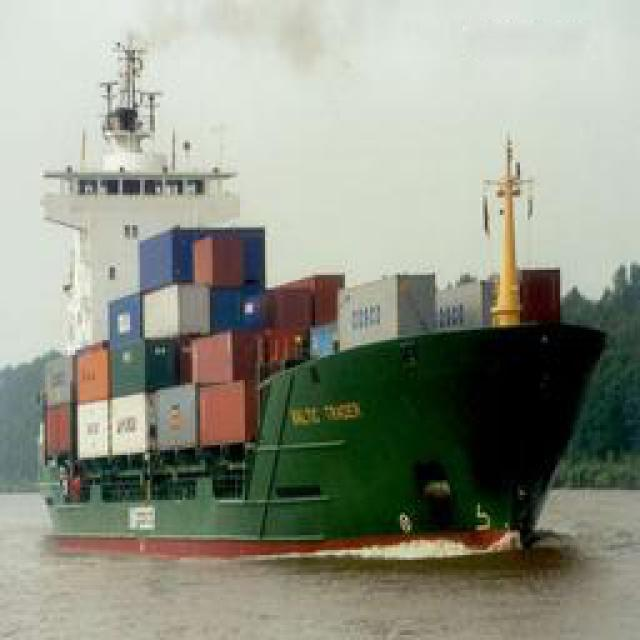Ship: (16, 27, 616, 573)
